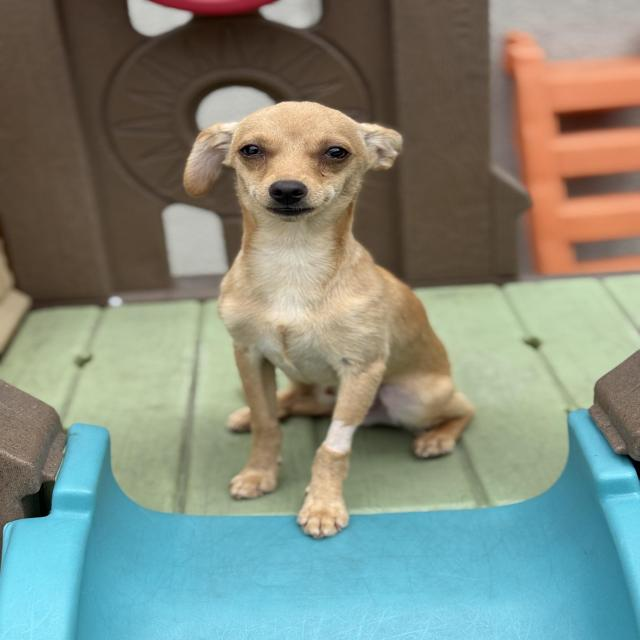chihuahua_dog: (155, 91, 430, 245)
